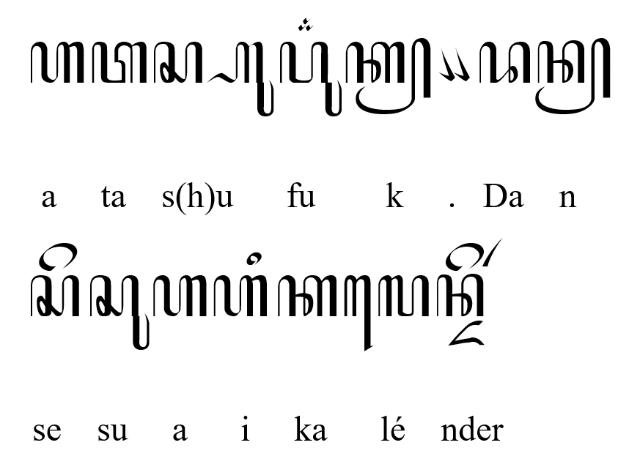-k: (346, 36, 432, 114)
-n: (534, 36, 612, 116)
_d: (446, 320, 486, 348)
_hu: (208, 41, 276, 117)
_r1: (482, 237, 502, 267)
alt: (298, 16, 314, 31)
d: (479, 40, 531, 84)
e: (39, 243, 79, 272), (446, 243, 484, 272)
e1: (343, 276, 372, 352)
h: (212, 274, 268, 318), (152, 275, 208, 317), (30, 41, 84, 83)
i: (246, 251, 262, 266)
k: (278, 275, 338, 317)
kom: (438, 47, 456, 82), (452, 47, 470, 81)
l: (378, 274, 430, 320)
n: (436, 273, 484, 319)
pu: (280, 40, 342, 116)
s: (154, 39, 204, 82), (30, 275, 80, 317)
su: (89, 274, 150, 351)
t: (91, 40, 147, 84)
